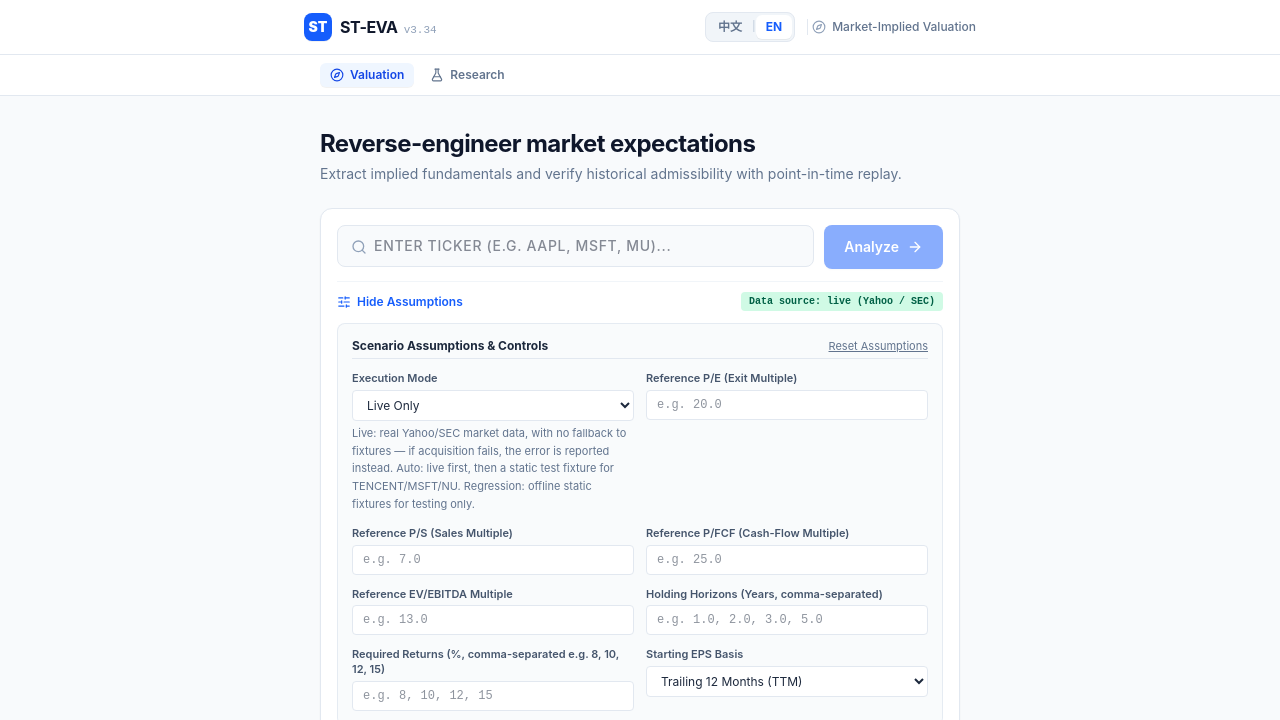
Scenario: Bilingual (i18n) Interface › supports manual language switch and updates UI immediately
Expected: the heading "Reverse-engineer market expectations" is shown, [320,129,755,158]
Expected: the button "Analyze" is shown, [824,225,943,269]
Note: Switch to Chinese
Click the button "中文": x=730, y=27 [708,15,752,39]
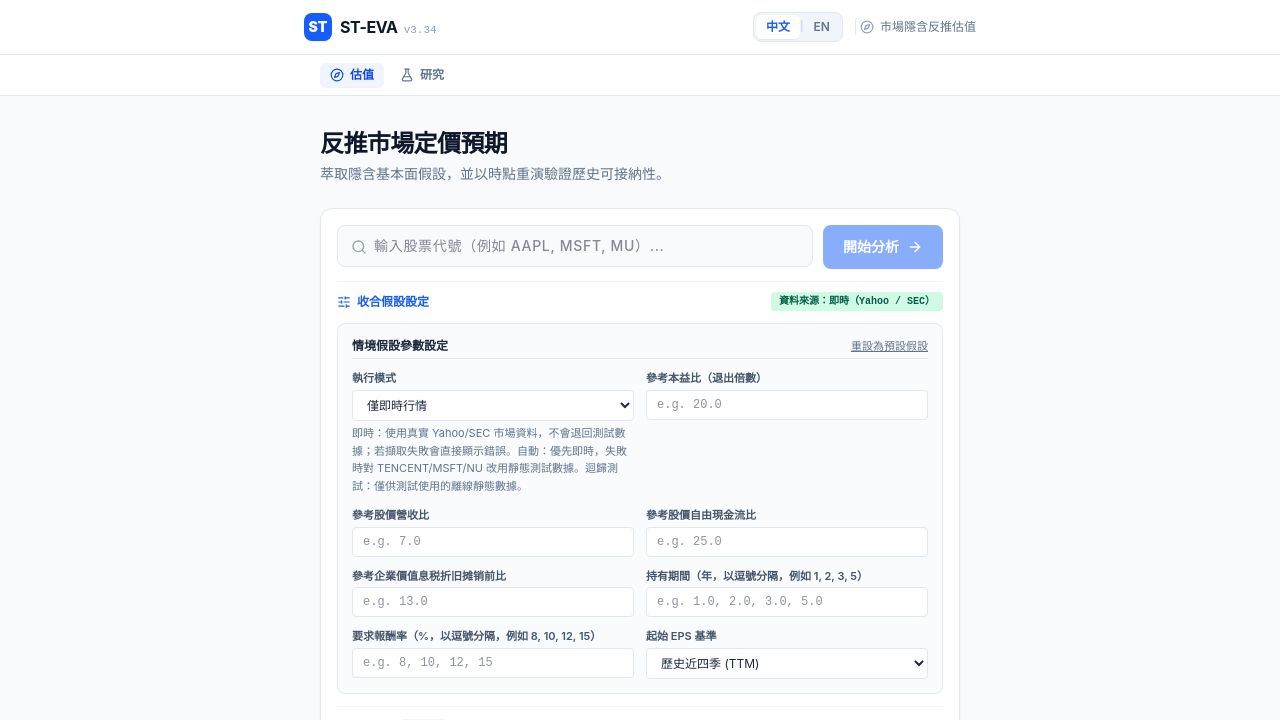
Result: the heading "反推市場定價預期" is shown at [320,129,507,158]
Result: the button "開始分析" is shown at [823,225,943,269]
Note: Switch back to English
Click the button "EN": x=822, y=27 [804,15,840,39]
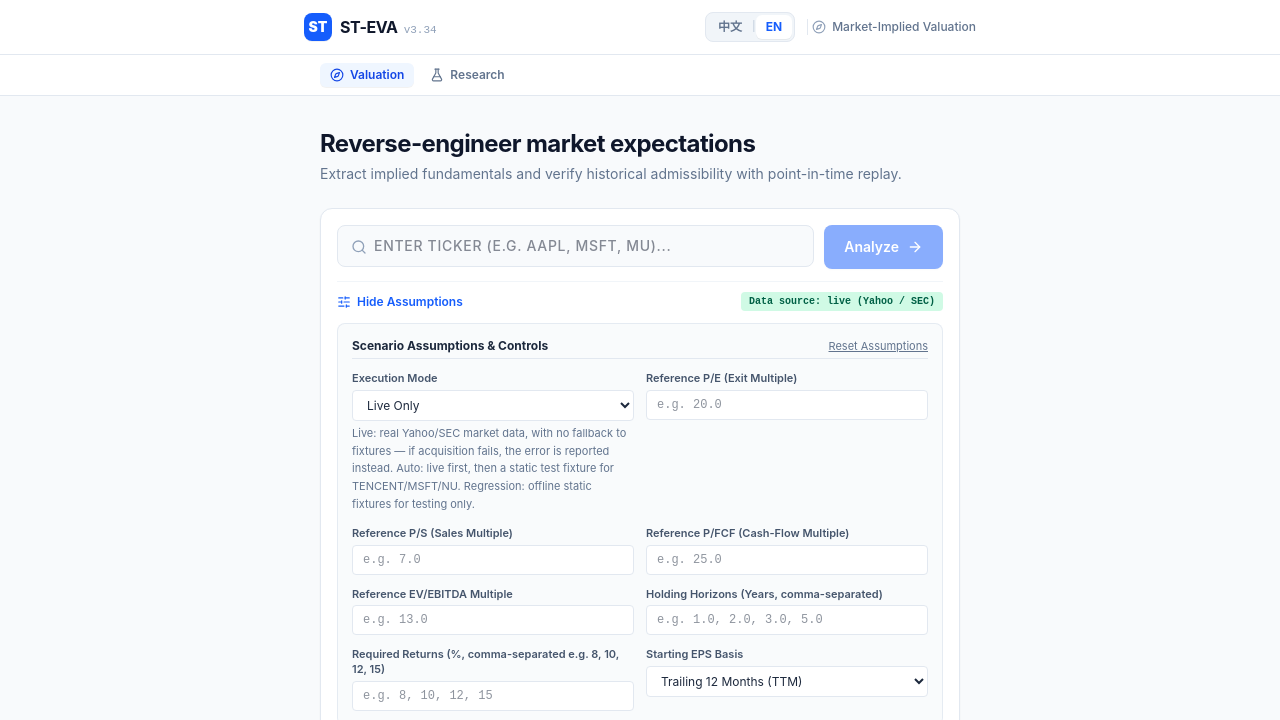
Result: the heading "Reverse-engineer market expectations" is shown at [320,129,755,158]
Result: the button "Analyze" is shown at [824,225,943,269]
